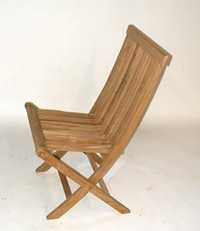obstacle: (25, 25, 171, 218)
